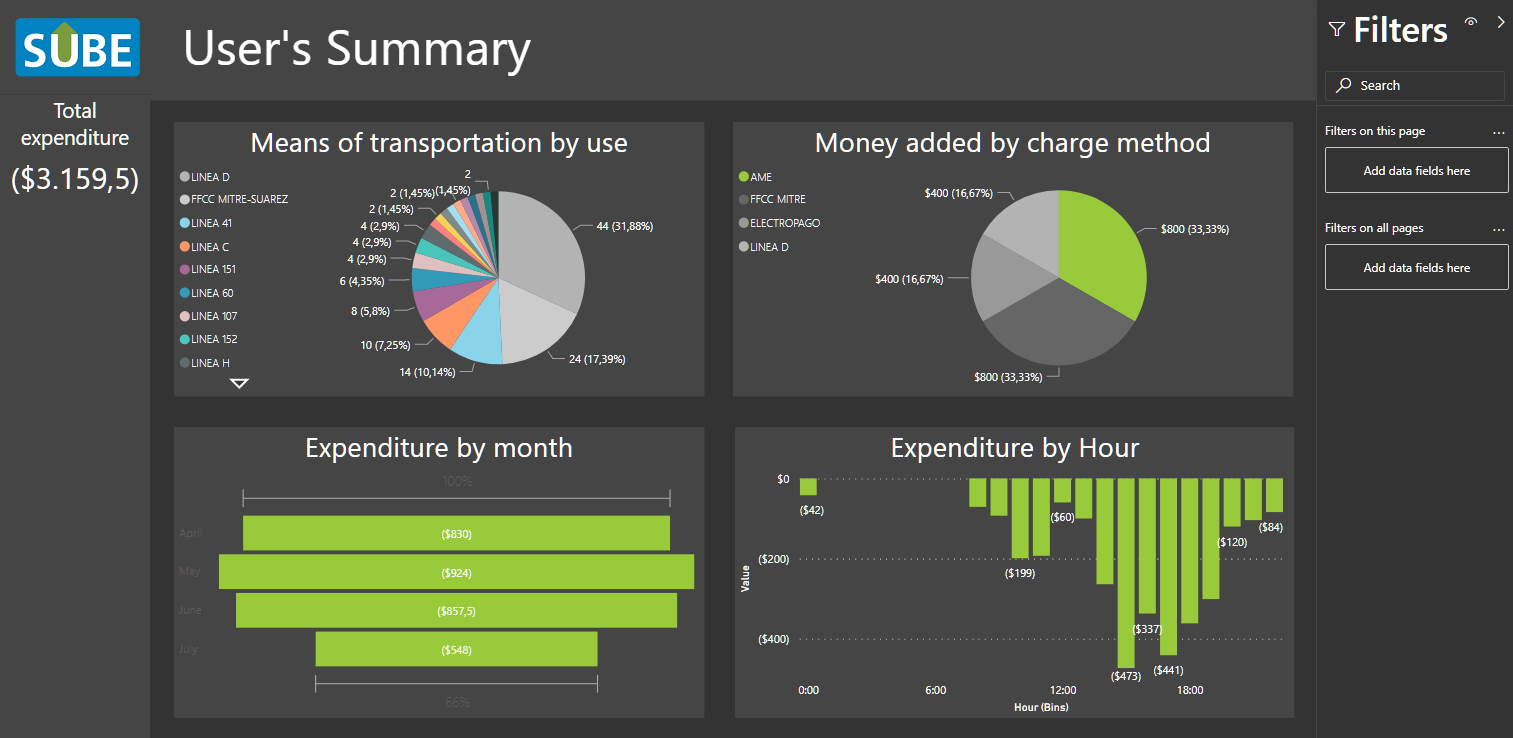

The page's visual inventory and layout, read from the dashboard file:
{"tool":"powerbi","page":{"name":"Page 1","canvas":[1280,720],"ordinal":0},"visuals":[{"type":"pieChart","title":"Means of transportation by use","fields":{"Category":["sube.Means of Transportation"],"Series":["sube.Transaction Type"],"Y":["CountNonNull(sube.Means of Transportation)"]},"box":[169.1,119,515.8,267.4],"z":0},{"type":"funnel","title":"Expenditure by month","fields":{"Category":["sube.Date.Variation.Date Hierarchy.Month"],"Y":["Sum(sube.Value)"]},"box":[169.1,414.9,515.8,282.9],"z":1000},{"type":"card","title":"Total expenditure","fields":{"Values":["Sum(sube.Value)"]},"box":[0,92.4,145.9,107],"z":2000},{"type":"columnChart","title":"Expenditure by Hour","fields":{"Category":["sube.Hour (Bins)"],"Y":["Sum(sube.Value)"]},"box":[715,414.9,544.3,282.9],"z":3000},{"type":"textbox","box":[145.8,6,1134.2,92.3],"z":4000},{"type":"image","box":[0,0,150.1,92.3],"z":5000},{"type":"shape","box":[150.1,0,1129.9,12.1],"z":6000},{"type":"pieChart","title":"Money added by charge method","fields":{"Y":["Sum(sube.Value)"],"Category":["sube.Means of Transportation"],"Series":["sube.Transaction Type"]},"box":[712.9,118.7,544.7,267.5],"z":7000},{"type":"shape","box":[0,199.4,145.9,520.4],"z":8000}]}

Visuals, with their boxes on the page's 1280x720 design canvas (x1, y1, x2, y2). These are canvas units, not pixel positions in the 1513x738 screenshot, which may show the page scaled, cropped or inside an application window:
"Means of transportation by use" pieChart: (169,119,685,386)
"Expenditure by month" funnel: (169,415,685,698)
"Total expenditure" card: (0,92,146,199)
"Expenditure by Hour" columnChart: (715,415,1259,698)
textbox: (146,6,1280,98)
image: (0,0,150,92)
shape: (150,0,1280,12)
"Money added by charge method" pieChart: (713,119,1258,386)
shape: (0,199,146,720)
